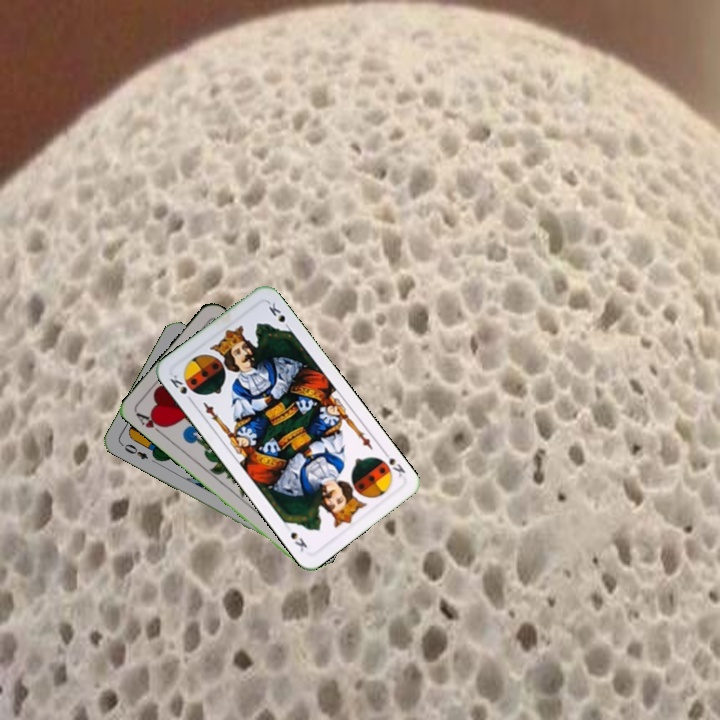EO: (117, 440, 151, 462)
HA: (132, 409, 169, 439)
SK: (166, 370, 196, 406), (378, 446, 408, 480)
